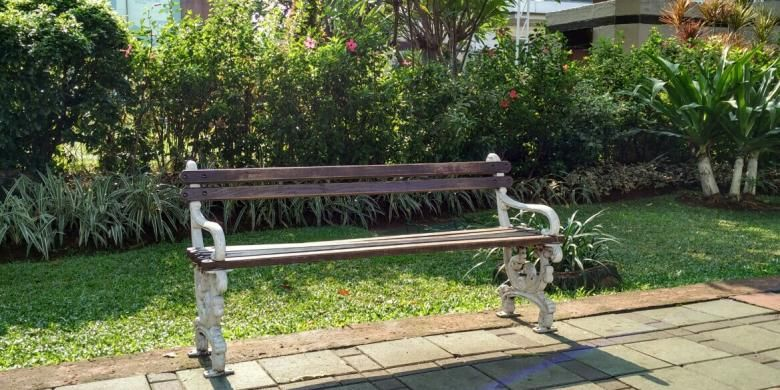bench: (170, 153, 573, 383)
